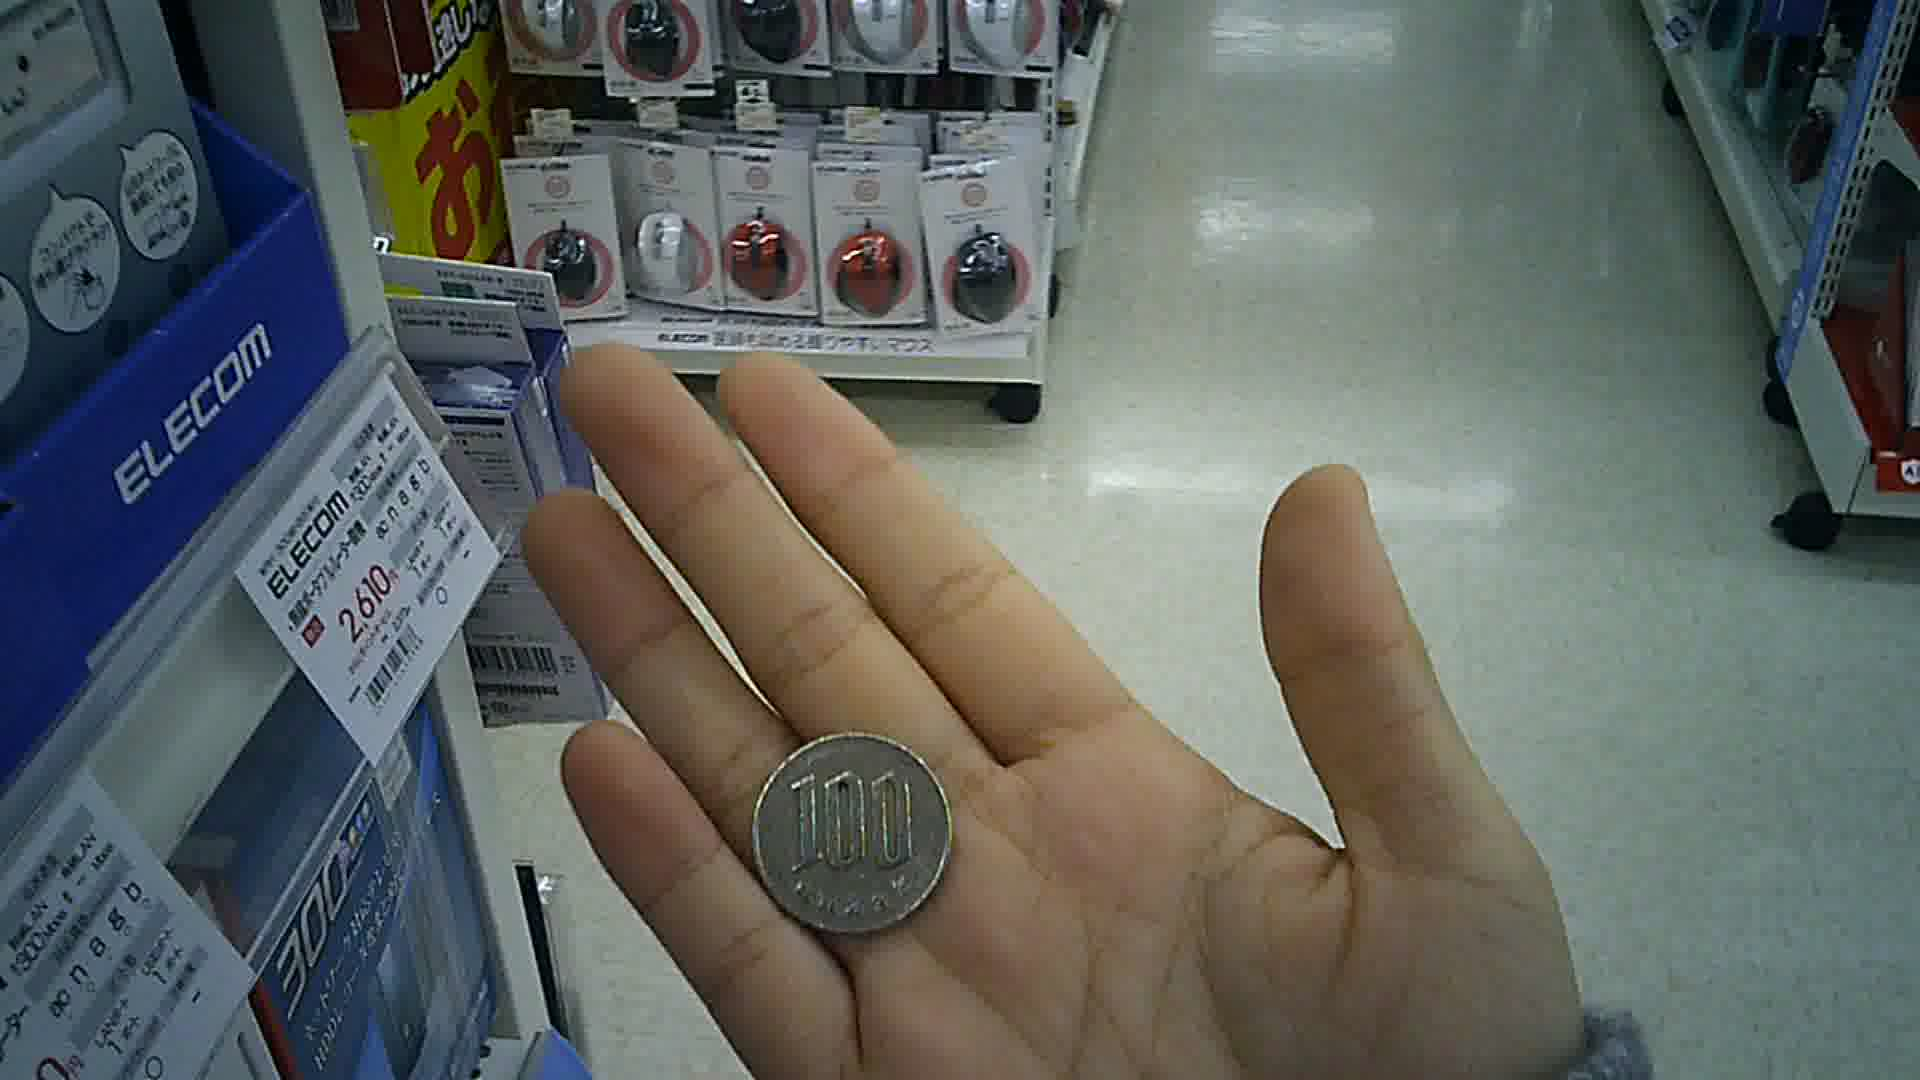100 Yen: (737, 725, 963, 942)
